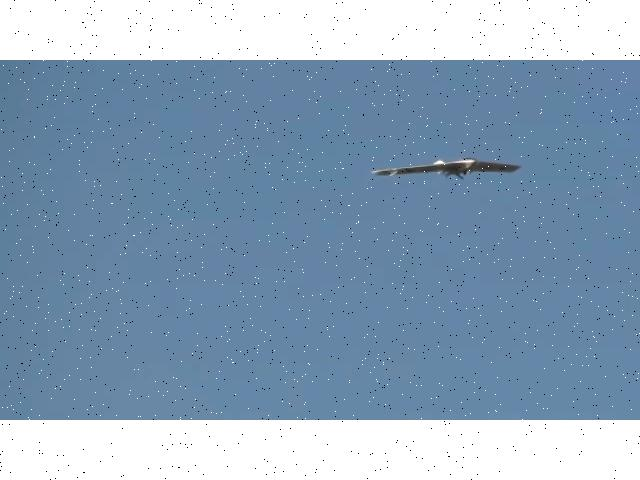Anti-Drone: (370, 160, 522, 176)
